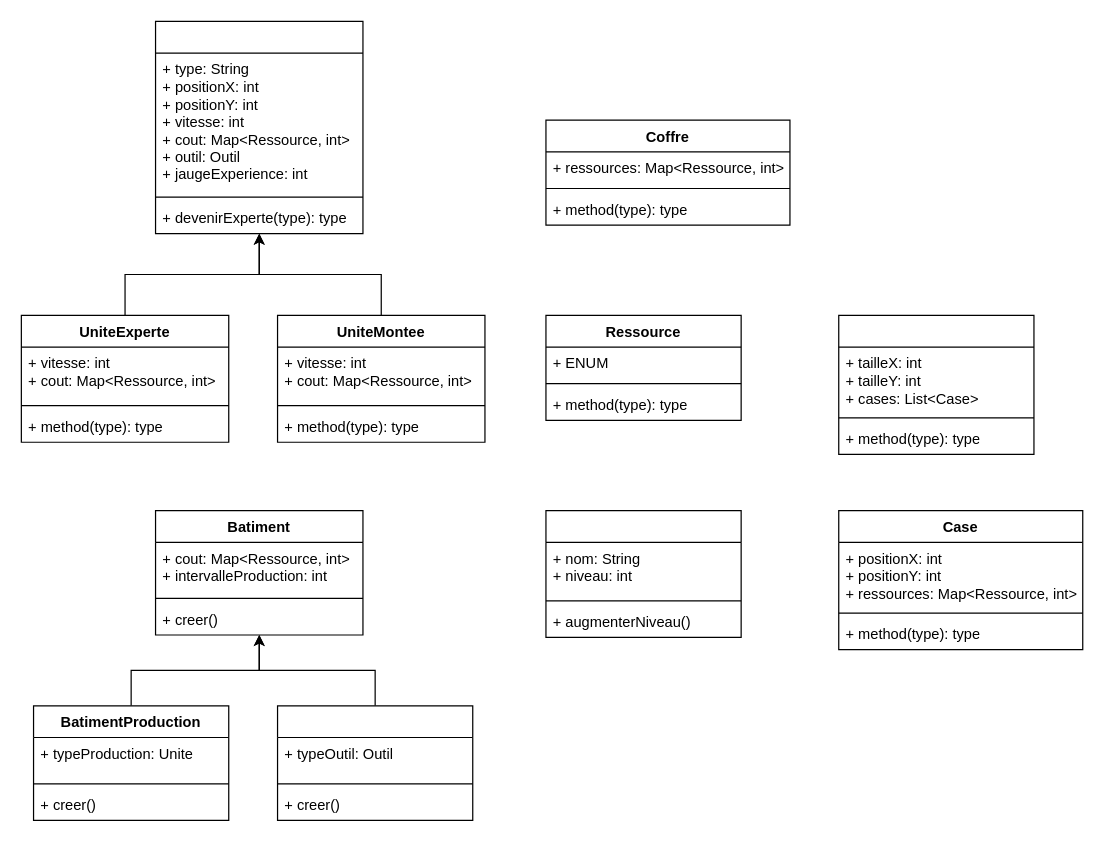
This 1104x845 diagram has some shape labels left out. Each missing label, with the box of its shape:
BatimentOutil: (276, 705, 473, 820)
CarteDuJeu: (838, 314, 1034, 454)
Outil: (545, 509, 741, 637)
Unite: (154, 20, 363, 234)
